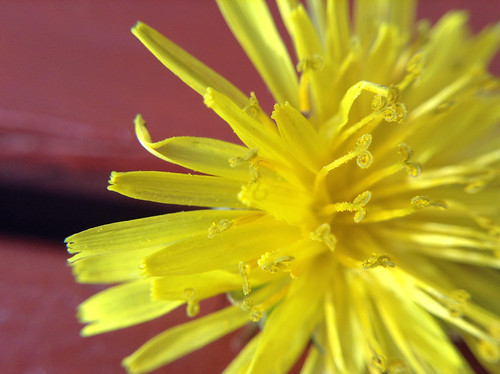dandelion: (143, 28, 495, 374)
